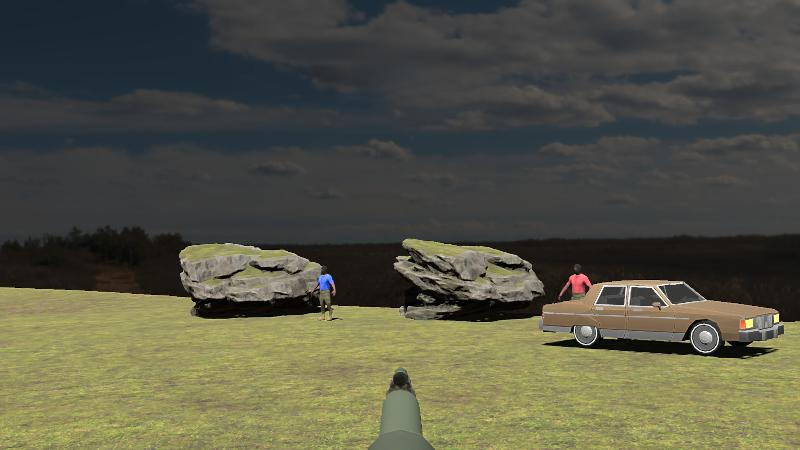Human: (559, 262, 593, 330), (313, 265, 335, 322)
car: (542, 279, 785, 356), (540, 279, 785, 354)
